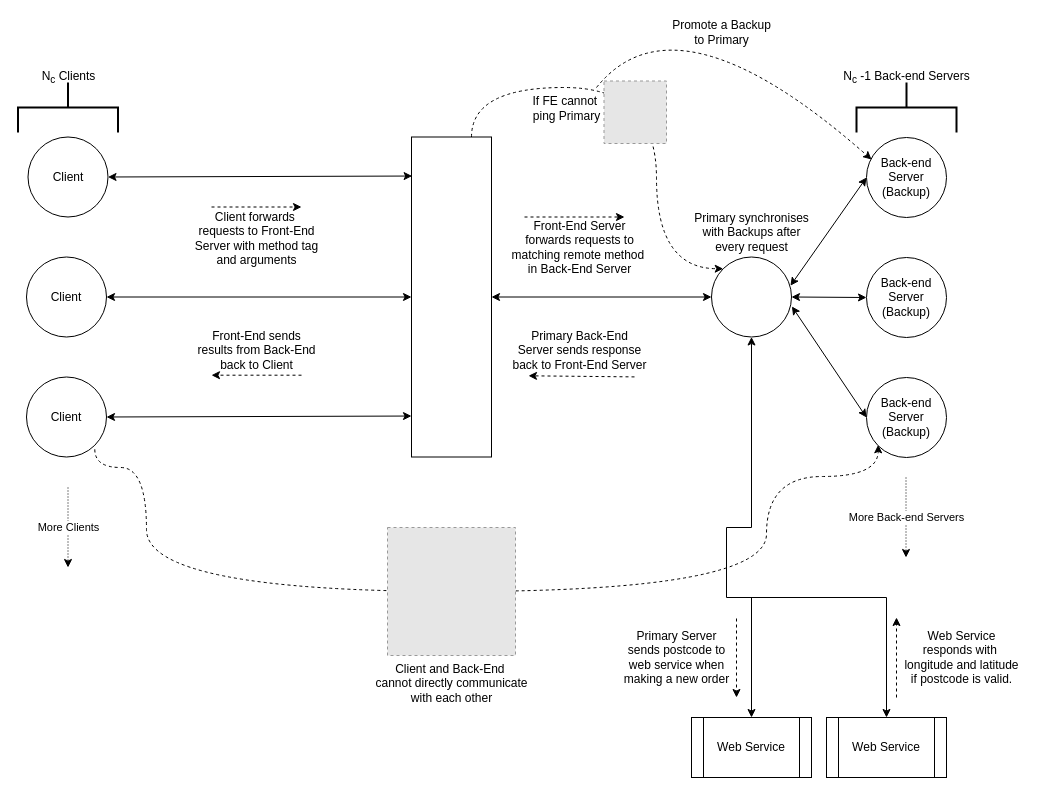
Image size: 1044x795. Some labels were removed from this diagram. Grey dashed boxes stand in for pictures. Here are the shapes that lost their labels. From the top down, the box of each, then its label:
(410, 136, 492, 457): Front-end Server
(710, 256, 792, 337): Back-end Server (Primary)
